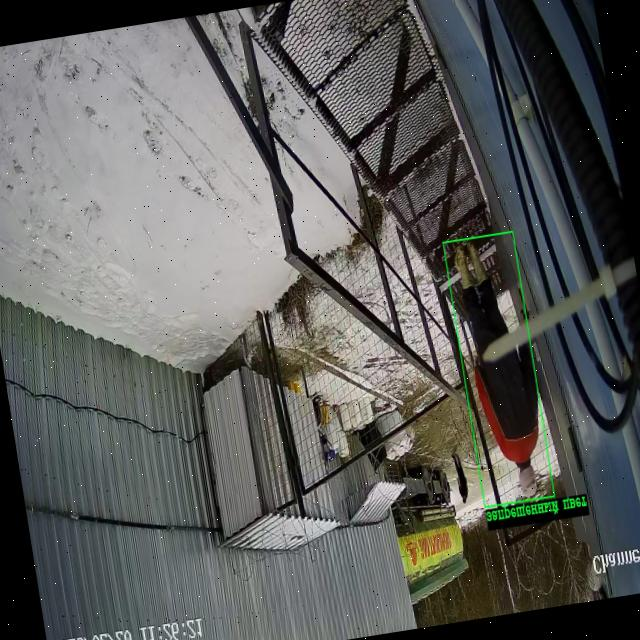Person: (452, 454, 468, 504)
Red uniform: (454, 241, 538, 498)
